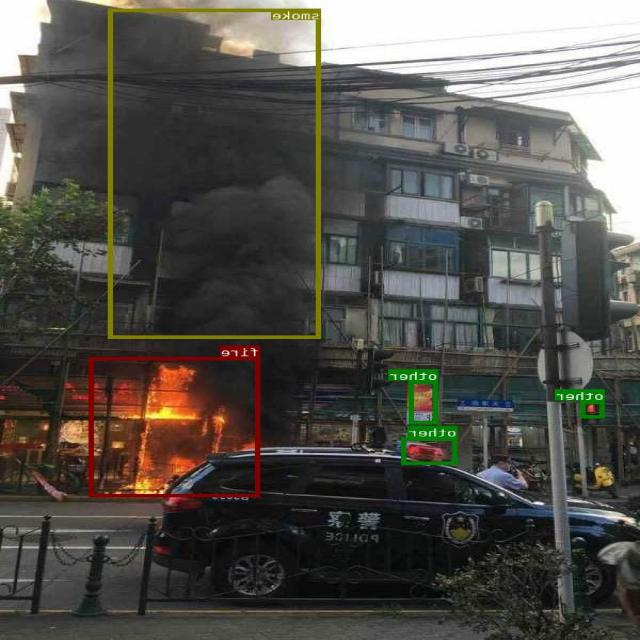fire: (90, 356, 260, 496)
other: (402, 437, 458, 464), (411, 381, 438, 423), (582, 400, 606, 417)
smoke: (109, 8, 322, 338)
